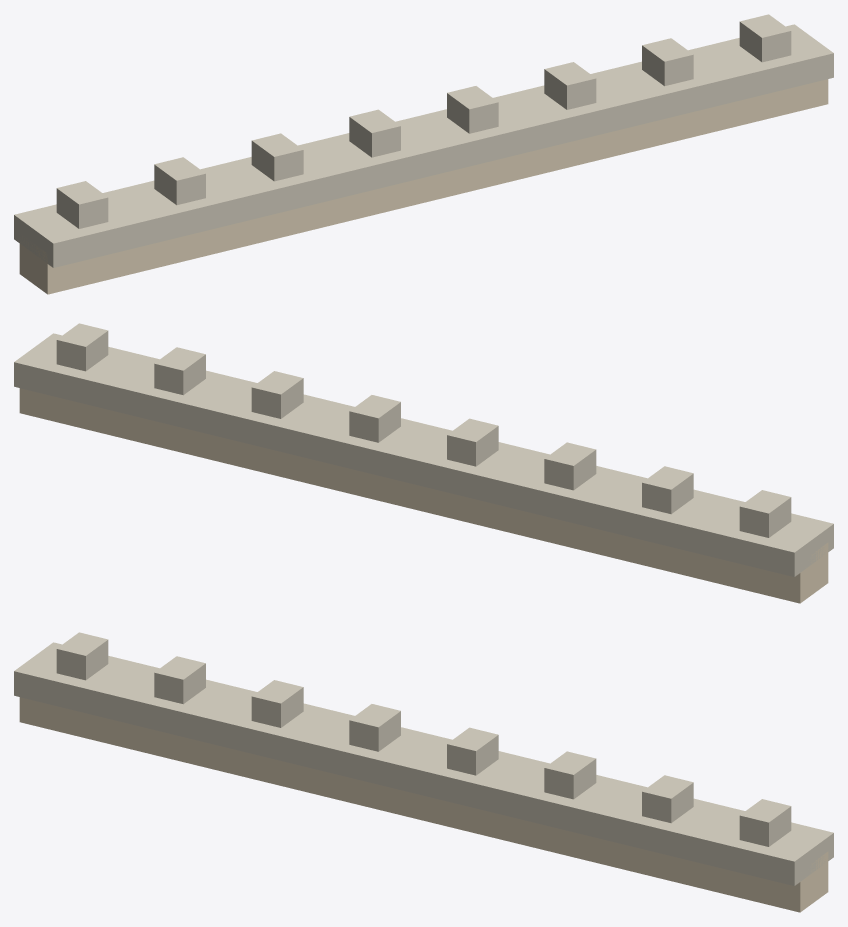
File: arch.cornice-band.glb
3 renders of one model, top to bottom at view 1: azimuth 30°, elevation 25°; view 2: azimuth 150°, elevation 25°; view 3: azimuth 330°, elevation 25°, orthographic.
Visible parts, largest first — view 1: arch.cornice-band; view 2: arch.cornice-band; view 3: arch.cornice-band.
Boxes of the visible parts, <box> form: arch.cornice-band: <box>14,14,833,294</box>; arch.cornice-band: <box>14,323,833,603</box>; arch.cornice-band: <box>14,632,833,912</box>.
Bounding box in the file's own units: 4 × 0.39 × 0.35.
